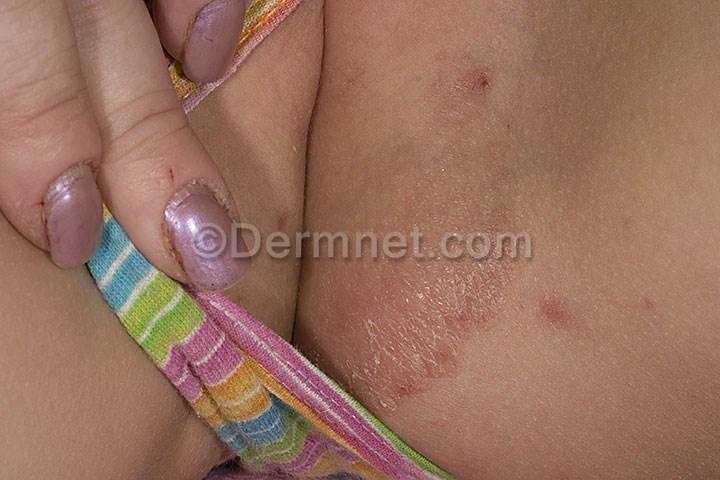Eczema: (312, 264, 529, 420), (449, 57, 522, 109), (536, 287, 579, 338)
